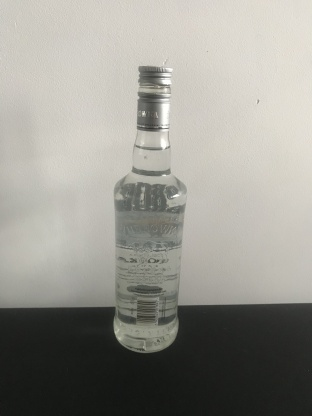nakretka: (134, 62, 174, 131)
